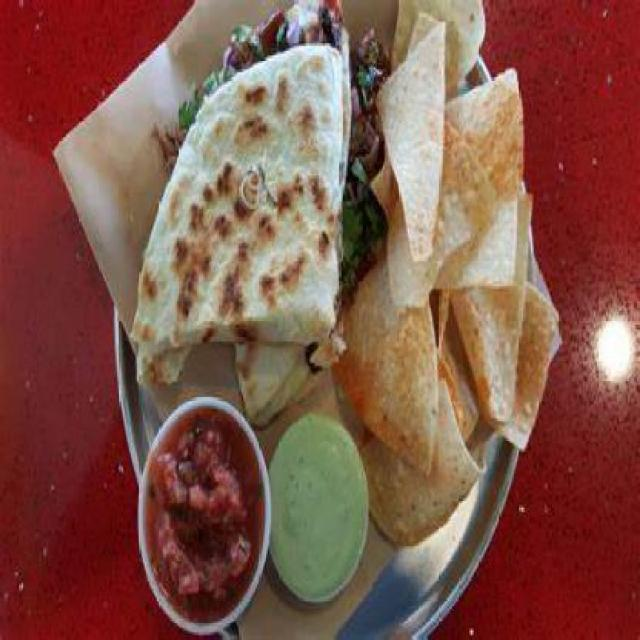chicken quesadilla: (122, 31, 352, 424)
guacamole: (263, 405, 374, 597)
